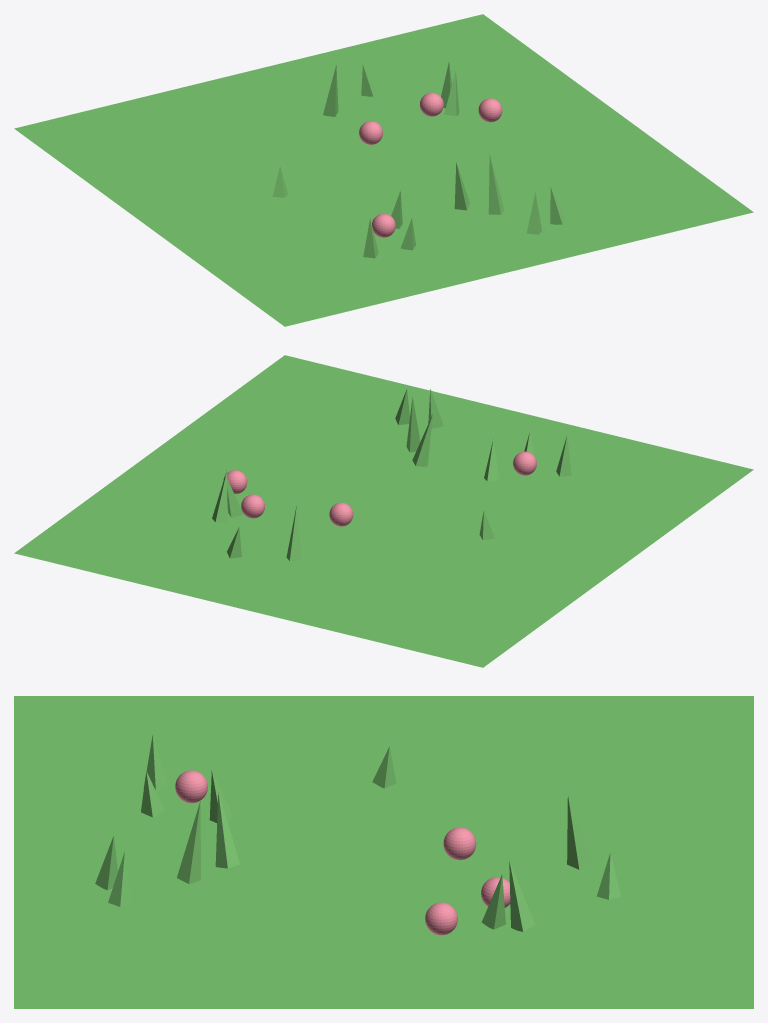
The model's file is grass.glb.
3 renders of one model, top to bottom at view 1: azimuth 30°, elevation 25°; view 2: azimuth 150°, elevation 25°; view 3: azimuth 270°, elevation 25°, orthographic. The views are drawn at different scales.
Visible parts, largest first — view 1: Grass_Base, Grass_Blade_11; view 2: Grass_Base; view 3: Grass_Base, Grass_Blade_11, Grass_Blade_3, Grass_Blade_7, Grass_Blade_6, Grass_Flower_1, Grass_Flower_0, Grass_Flower_3, Grass_Blade_4, Grass_Blade_8, Grass_Blade_0, Grass_Blade_9 (+5 smaller).
Part boxes in pixels (x1,y1,x2,y2): Grass_Base: (14, 14, 753, 326); Grass_Blade_11: (488, 154, 503, 214); Grass_Base: (14, 355, 753, 667); Grass_Base: (14, 696, 753, 1008); Grass_Blade_11: (177, 801, 200, 883); Grass_Blade_3: (215, 792, 239, 868); Grass_Blade_7: (567, 795, 591, 869); Grass_Blade_6: (509, 861, 534, 931); Grass_Flower_1: (443, 827, 476, 860); Grass_Flower_0: (425, 902, 457, 935); Grass_Flower_3: (175, 770, 207, 803); Grass_Blade_4: (481, 874, 505, 929); Grass_Blade_8: (108, 851, 132, 906); Grass_Blade_0: (95, 835, 117, 890); Grass_Blade_9: (143, 734, 167, 792).
Bounding box in the file's own units: 1.8 × 0.2129 × 1.8.
